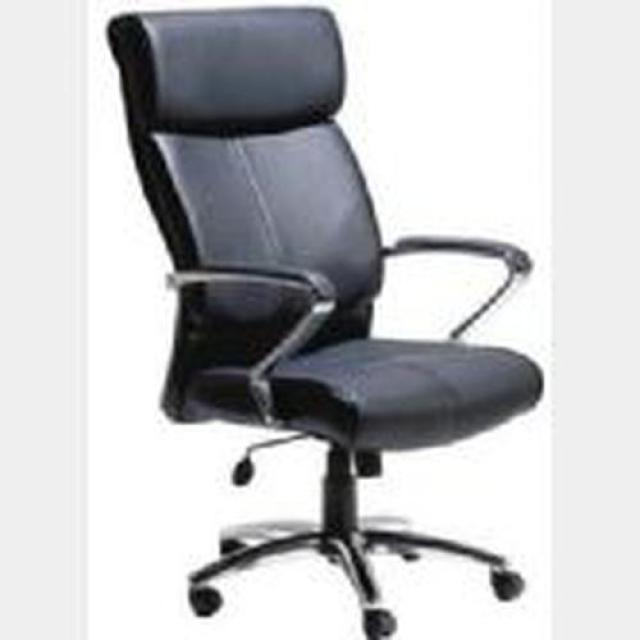swivelchair: (105, 5, 545, 640)
